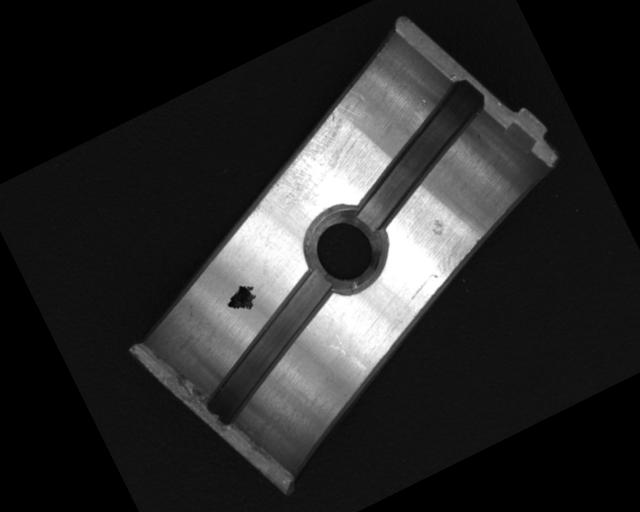blot: (220, 278, 263, 319)
bruise: (426, 216, 449, 240)
gap: (174, 266, 363, 427), (326, 75, 512, 231)
hole: (294, 193, 397, 302)
nick: (317, 325, 367, 383)
scratch: (235, 85, 395, 224)
